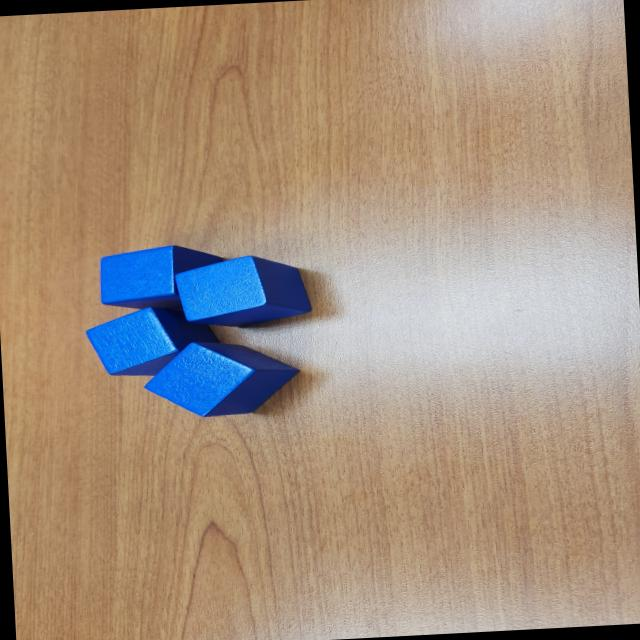blue: (141, 336, 303, 420), (172, 252, 314, 330), (84, 303, 222, 379), (99, 242, 226, 314)
